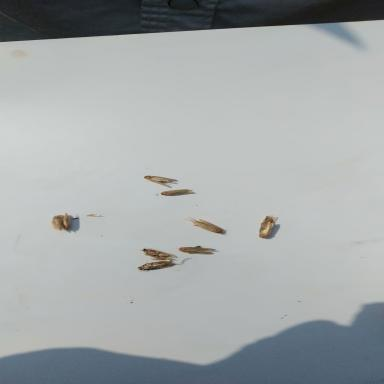pbw: (186, 216, 230, 236), (138, 173, 180, 189), (257, 213, 281, 240), (139, 246, 181, 261), (132, 260, 183, 272), (176, 244, 222, 256), (159, 187, 197, 197), (61, 212, 79, 232), (49, 213, 65, 230)
